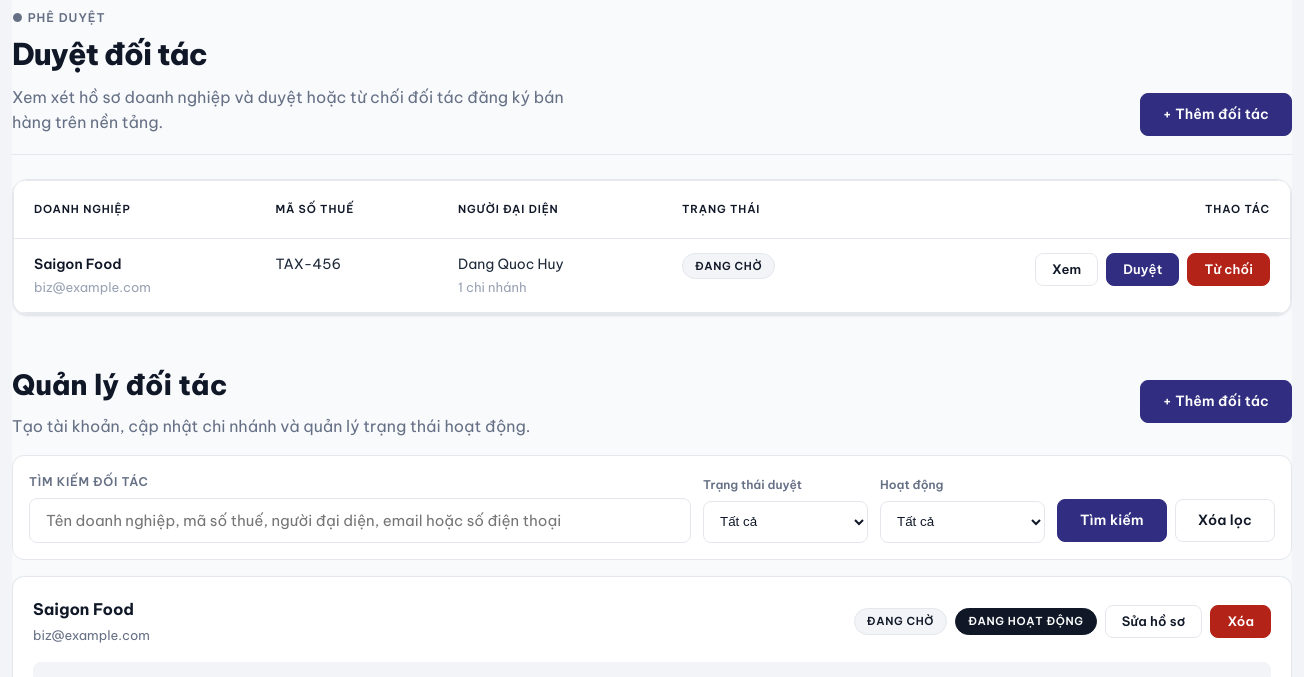
Scenario: PartnerApprovalsPage › approves a partner and refreshes the list (Req 6.2)
expect the text "Saigon Food" next to "TAX-456" is shown: met, box 34,255 -> 122,273
Step 1. Click the button with aria-label "duyệt saigon food" → point(1143, 270), box 1106,253 -> 1179,286
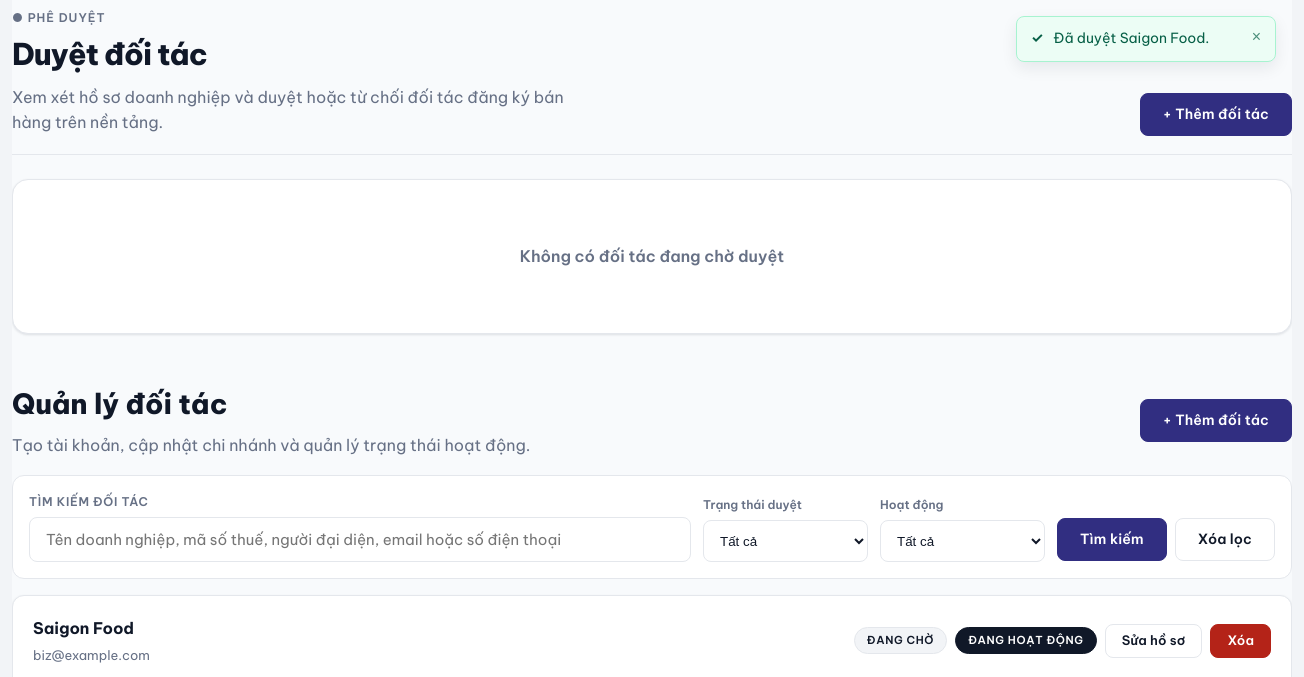
expect the text "Đã duyệt Saigon Food." is shown: met, box 1053,29 -> 1209,47
